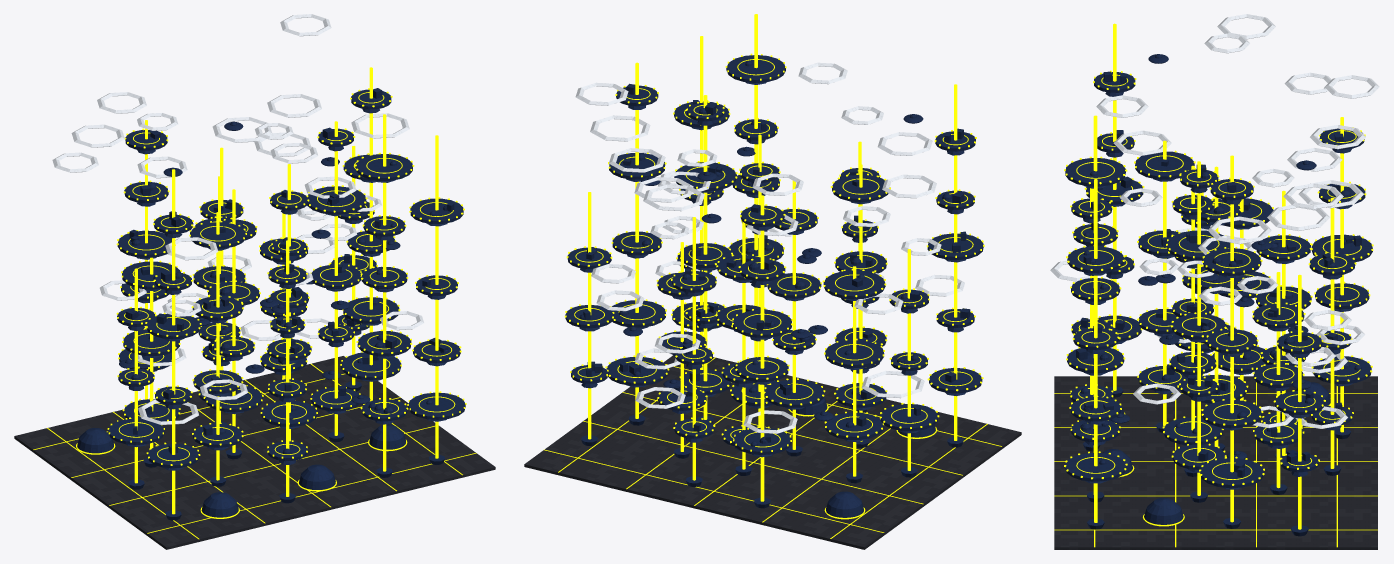
The model's file is Ville_10.glb.
3 views of the same model, side by side, from view 1: azimuth 30°, elevation 25°; view 2: azimuth 150°, elevation 25°; view 3: azimuth 270°, elevation 25° (orthographic). The views are drawn at different scales.
Visible parts, largest first — view 1: Ville_10; view 2: Ville_10; view 3: Ville_10.
Part boxes in pixels (<box>): Ville_10: <box>14,14,495,549</box>; Ville_10: <box>524,14,1021,549</box>; Ville_10: <box>1050,14,1379,549</box>.
Bounding box in the file's own units: 40.2 × 42.13 × 32.58.
4 materials, 3 textured.
